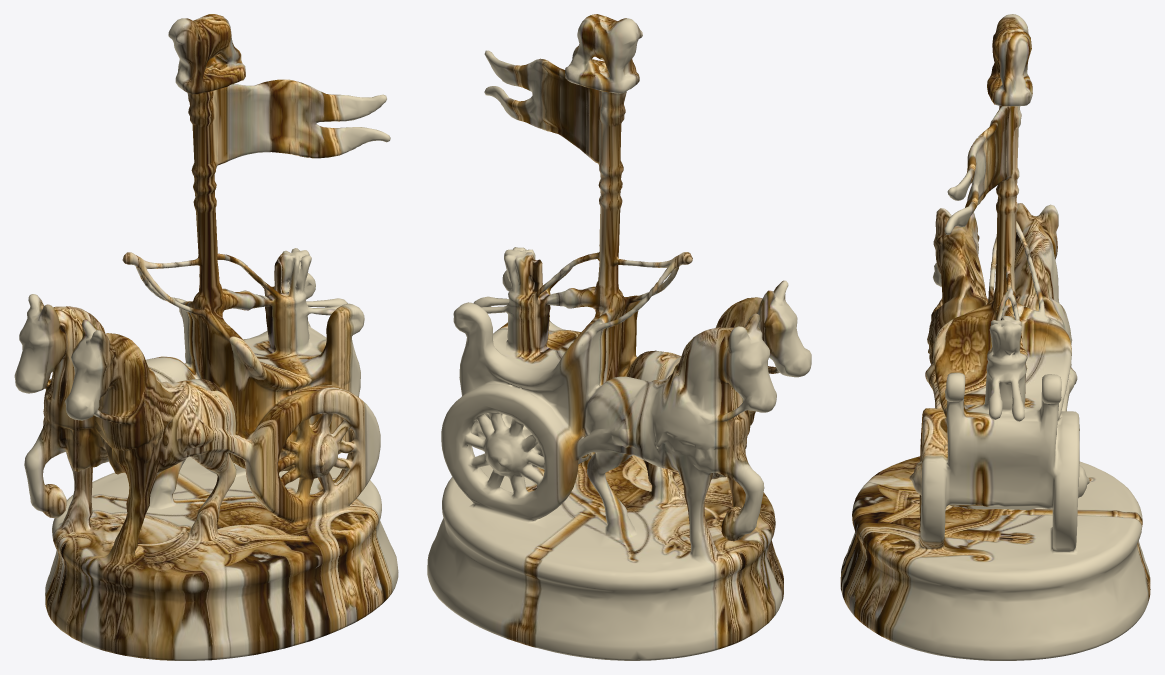
File: ratha.glb
3 renders of one model, left to right at view 1: azimuth 30°, elevation 25°; view 2: azimuth 150°, elevation 25°; view 3: azimuth 270°, elevation 25°, orthographic. The views are drawn at different scales.
Parts seen in each view (by area): view 1: geometry_0; view 2: geometry_0; view 3: geometry_0.
Boxes of the visible parts, <box> form: geometry_0: <box>14,14,398,660</box>; geometry_0: <box>427,14,811,660</box>; geometry_0: <box>840,14,1150,660</box>.
Bounding box in the file's own units: 1.22 × 1.98 × 0.9744.
1 material, 1 textured.
